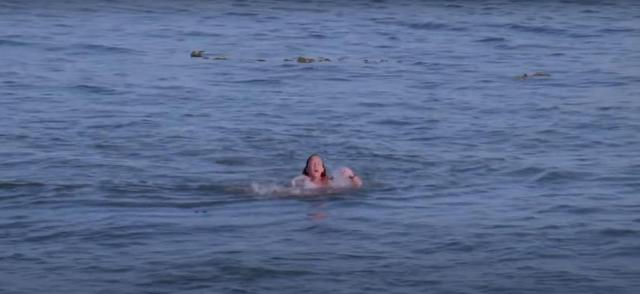drowning: (289, 143, 357, 198)
